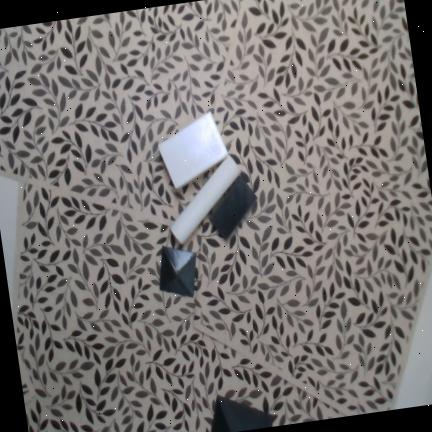Cilindro: (169, 153, 240, 245)
Paralelepipedo: (158, 110, 228, 190), (208, 175, 257, 238)
Piramide: (211, 395, 275, 432), (159, 245, 196, 297)
